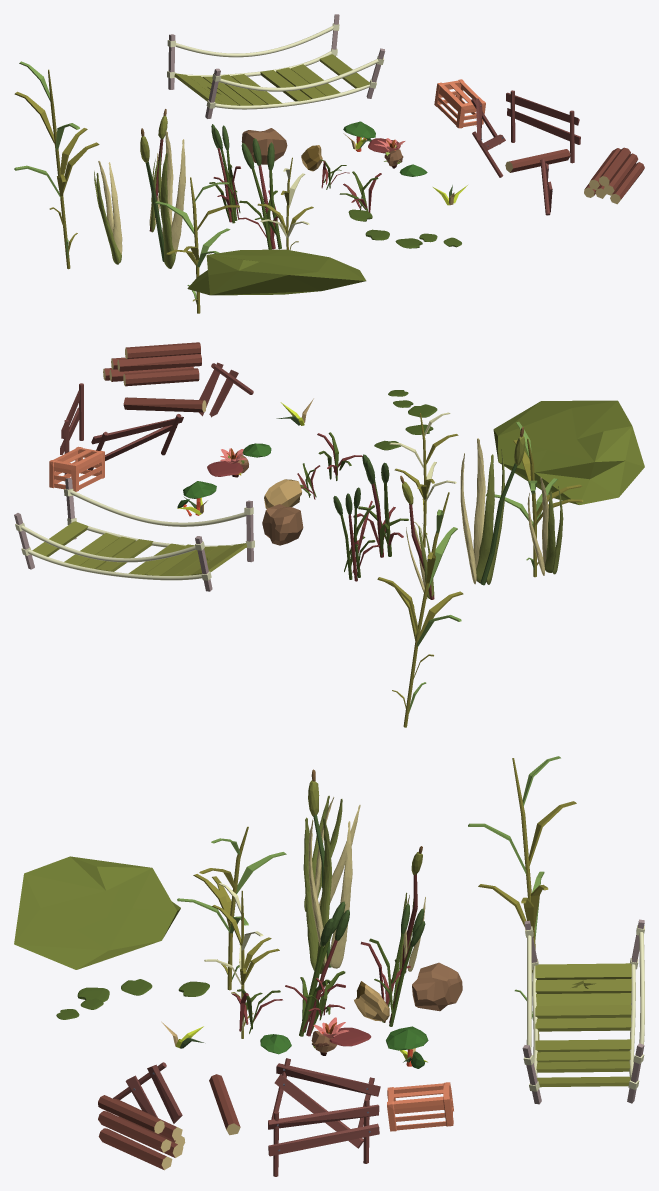
The model's file is things4.fbx.
The picture shows the model from 3 angles, top to bottom: view 1: azimuth 30°, elevation 25°; view 2: azimuth 150°, elevation 25°; view 3: azimuth 270°, elevation 25°; orthographic projection. The views are drawn at different scales.
Visible parts, largest first — view 1: wyspa.006, wyspa.011, Cube.049, wyspa.002, Cube.042, Cube.048, wyspa.015, Cube.000, Cube.035, wyspa.003, wyspa.010, Cube.050 (+8 smaller); view 2: wyspa.011, wyspa.006, Cube.049, Cube.042, wyspa.002, Cube.000, Cube.035, wyspa.003, wyspa.010, Cube.048, wyspa.013, Cube.050 (+9 smaller); view 3: wyspa.006, wyspa.011, Cube.049, Cube.042, wyspa.015, wyspa.002, Cube.000, wyspa.013, Cube.048, wyspa.003, Cube.050, wyspa.010 (+10 smaller).
Boxes of the visible parts, x1=… form: wyspa.006: x1=167, y1=14, x2=385, y2=118; wyspa.011: x1=187, y1=249, x2=366, y2=295; Cube.049: x1=140, y1=128, x2=185, y2=268; wyspa.002: x1=14, y1=61, x2=99, y2=269; Cube.042: x1=584, y1=147, x2=644, y2=204; Cube.048: x1=238, y1=138, x2=281, y2=249; wyspa.015: x1=506, y1=90, x2=580, y2=163; Cube.000: x1=434, y1=79, x2=485, y2=128; Cube.035: x1=94, y1=161, x2=122, y2=264; wyspa.003: x1=154, y1=177, x2=239, y2=313; wyspa.010: x1=209, y1=124, x2=240, y2=223; Cube.050: x1=241, y1=128, x2=287, y2=164; wyspa.011: x1=493, y1=400, x2=644, y2=504; wyspa.006: x1=14, y1=478, x2=254, y2=591; Cube.049: x1=460, y1=427, x2=525, y2=585; Cube.042: x1=103, y1=342, x2=201, y2=386; wyspa.002: x1=377, y1=492, x2=463, y2=727; Cube.000: x1=49, y1=446, x2=104, y2=491; Cube.035: x1=527, y1=477, x2=563, y2=575; wyspa.003: x1=486, y1=421, x2=583, y2=577; wyspa.010: x1=333, y1=487, x2=379, y2=581; Cube.048: x1=353, y1=454, x2=408, y2=557; wyspa.013: x1=87, y1=414, x2=183, y2=470; Cube.050: x1=262, y1=504, x2=303, y2=545; wyspa.006: x1=522, y1=919, x2=644, y2=1104; wyspa.011: x1=14, y1=856, x2=180, y2=969; Cube.049: x1=303, y1=769, x2=352, y2=973; Cube.042: x1=98, y1=1095, x2=185, y2=1170; wyspa.015: x1=268, y1=1098, x2=379, y2=1176; wyspa.002: x1=468, y1=756, x2=576, y2=1040; Cube.000: x1=387, y1=1082, x2=453, y2=1131; wyspa.013: x1=271, y1=1058, x2=380, y2=1148; Cube.048: x1=285, y1=901, x2=349, y2=1036; wyspa.003: x1=177, y1=826, x2=286, y2=990; Cube.050: x1=412, y1=962, x2=462, y2=1011; wyspa.010: x1=360, y1=903, x2=425, y2=1026.
Bounding box in the file's own units: 1159 × 490 × 1058.
